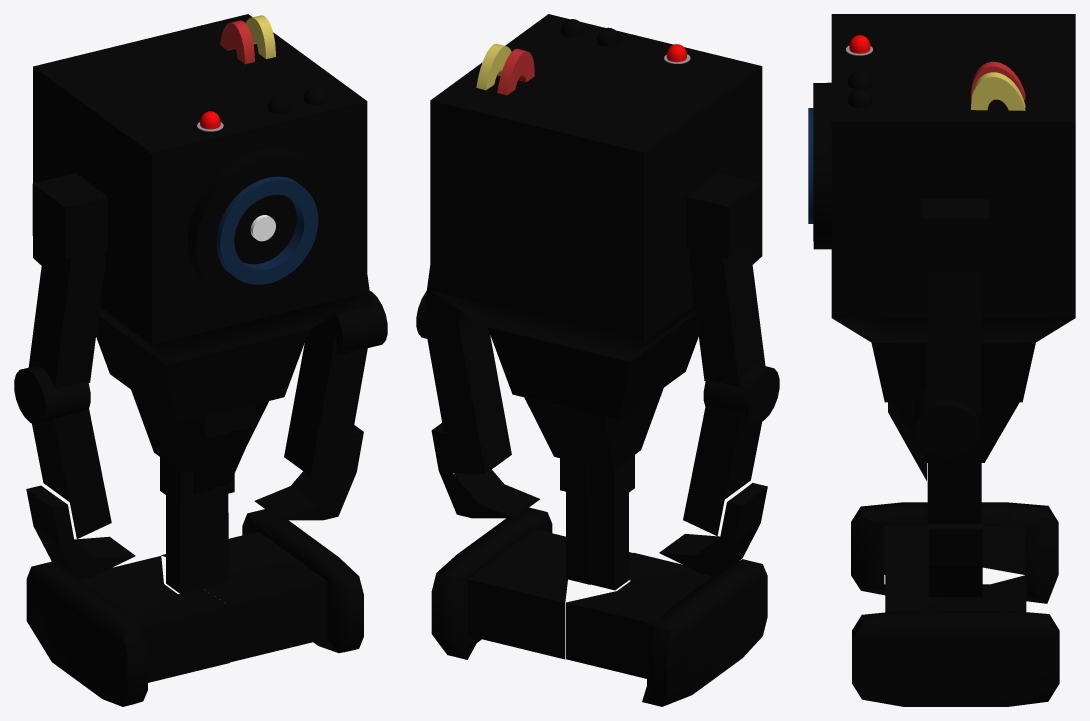
Rendered from robotito.glb.
The picture shows the model from 3 angles, left to right: view 1: azimuth 30°, elevation 25°; view 2: azimuth 150°, elevation 25°; view 3: azimuth 270°, elevation 25°; orthographic projection. The views are drawn at different scales.
Visible parts, largest first — view 1: Box004, tronco4, pies, Rectangle001, Torus001, BRAZO MUÑECA001, BRAZO, tronco 2, BRAZO MUÑECA, ytonco4, hombro 2, Torus004 (+8 smaller); view 2: Box004, tronco4, pies, Rectangle001, BRAZO MUÑECA001, BRAZO, BRAZO MUÑECA, tronco 2, ytonco4, hombro 2, robot 2, mano 1 (+5 smaller); view 3: Box004, pies, tronco4, BRAZO001, Rectangle001, hombro, mano 1, BRAZO MUÑECA001, Cylinder002, Torus001, tronco 2, Arc001 (+2 smaller).
Boxes of the visible parts, x1,y1,x2,y2 form: Box004: (33, 14, 367, 364); tronco4: (82, 531, 327, 682); pies: (26, 509, 363, 706); Rectangle001: (96, 315, 309, 423); Torus001: (188, 148, 337, 305); BRAZO MUÑECA001: (284, 321, 367, 476); BRAZO: (28, 244, 104, 389); tronco 2: (131, 390, 268, 493); BRAZO MUÑECA: (32, 389, 111, 538); ytonco4: (166, 494, 228, 593); hombro 2: (32, 173, 107, 259); Torus004: (216, 176, 318, 284); Box004: (430, 14, 762, 361); tronco4: (467, 529, 712, 678); pies: (431, 507, 767, 706); Rectangle001: (487, 314, 698, 420); BRAZO MUÑECA001: (422, 312, 511, 473); BRAZO: (689, 243, 765, 387); BRAZO MUÑECA: (683, 407, 761, 536); tronco 2: (524, 388, 663, 470); ytonco4: (566, 492, 628, 590); hombro 2: (686, 173, 761, 258); robot 2: (659, 483, 767, 577); mano 1: (431, 423, 539, 518); Box004: (831, 14, 1075, 342); pies: (851, 502, 1059, 706); tronco4: (884, 525, 1026, 612); BRAZO001: (927, 272, 981, 414); Rectangle001: (871, 342, 1035, 402); hombro: (922, 199, 989, 272); mano 1: (928, 522, 982, 597); BRAZO MUÑECA001: (927, 415, 981, 523); Cylinder002: (914, 388, 979, 457); Torus001: (813, 82, 831, 249); tronco 2: (888, 402, 1019, 480); Arc001: (971, 72, 1025, 110).
Bounding box in the file's own units: 1.34 × 2.27 × 0.8935.
